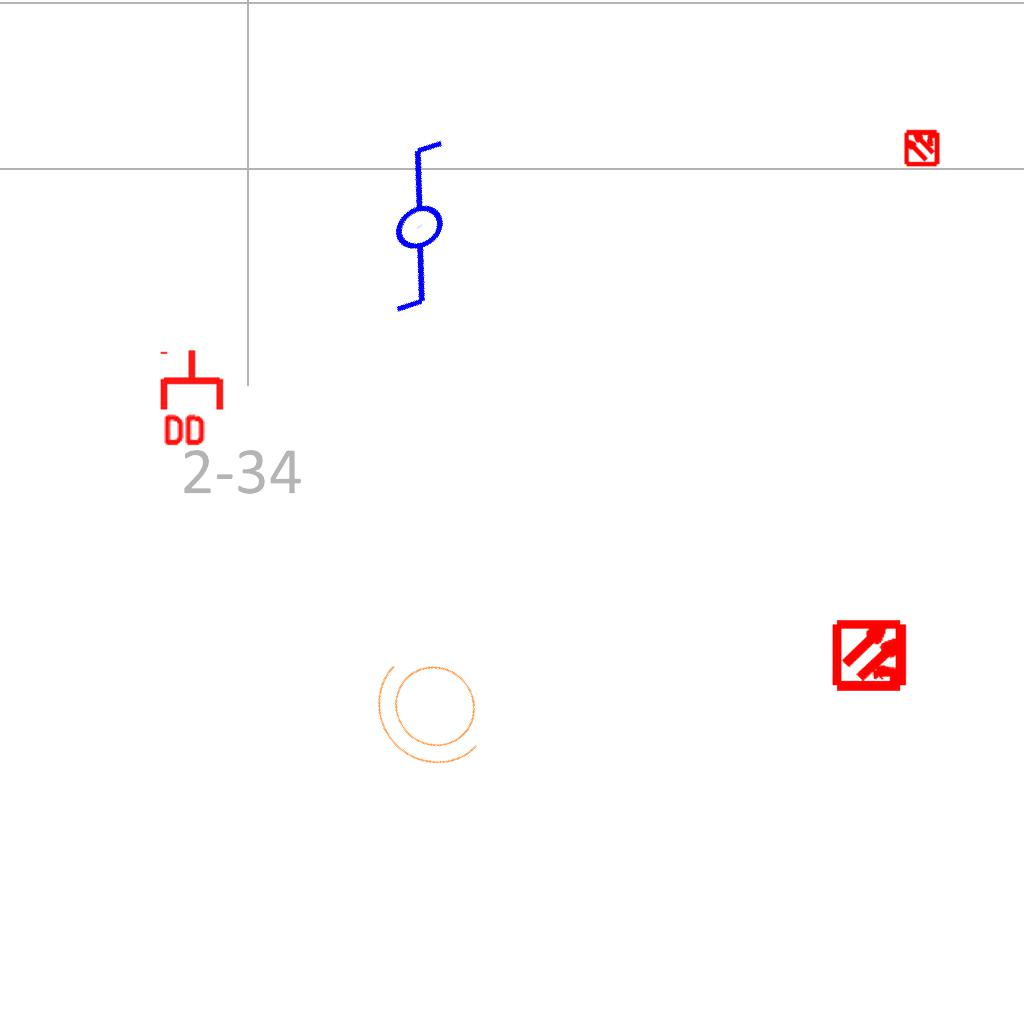Datenanschluss_zweifach: (159, 347, 228, 450)
OT_Multisensormelder_(Kombination_RMO_WMD): (815, 599, 928, 712), (894, 119, 950, 175)
Scheinwerfer_fuer_Alarmbeleuchtung: (347, 625, 521, 799)
Wechselschalter: (306, 126, 517, 334)
